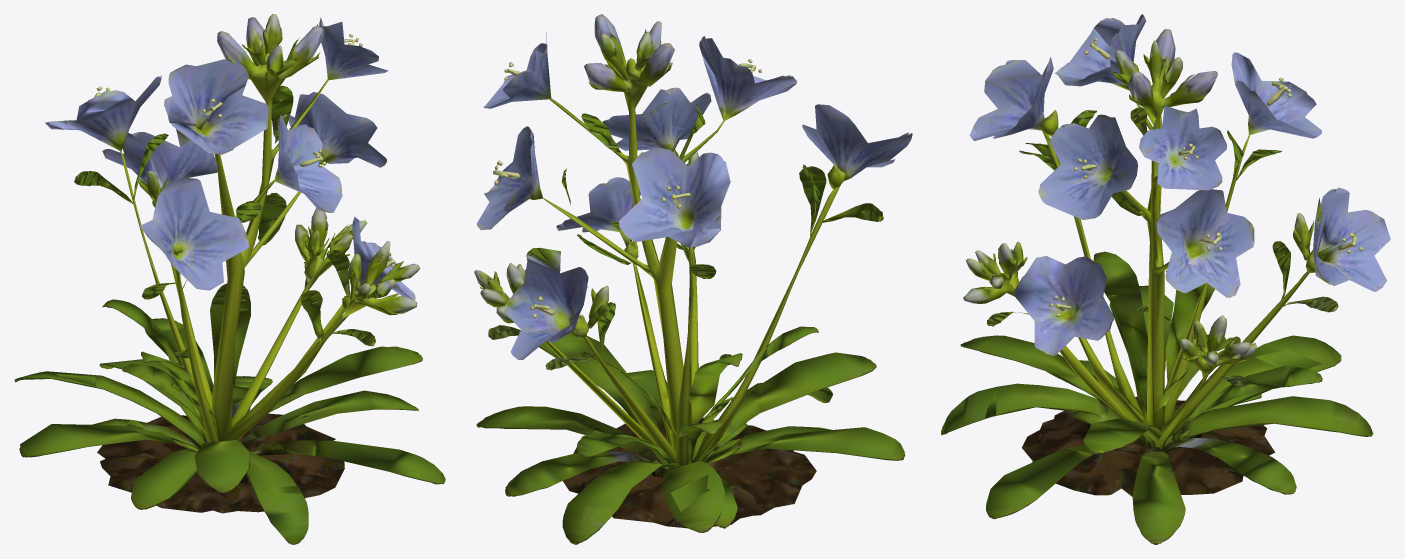
The model's file is LiuLiHua.glb.
3 views of the same model, side by side, from view 1: azimuth 30°, elevation 25°; view 2: azimuth 150°, elevation 25°; view 3: azimuth 270°, elevation 25° (orthographic). The views are drawn at different scales.
Parts seen in each view (by area): view 1: tripo_node_4a0e40c4-54e8-4244-9ae2-4ed17665e83b; view 2: tripo_node_4a0e40c4-54e8-4244-9ae2-4ed17665e83b; view 3: tripo_node_4a0e40c4-54e8-4244-9ae2-4ed17665e83b.
Boxes of the visible parts, box(x1,y1,x2,y2) form: tripo_node_4a0e40c4-54e8-4244-9ae2-4ed17665e83b: box(14, 14, 445, 544); tripo_node_4a0e40c4-54e8-4244-9ae2-4ed17665e83b: box(474, 14, 912, 544); tripo_node_4a0e40c4-54e8-4244-9ae2-4ed17665e83b: box(941, 14, 1390, 544).
Bounding box in the file's own units: 0.998 × 0.998 × 0.959.
Materials: 1 (1 with a texture image).
